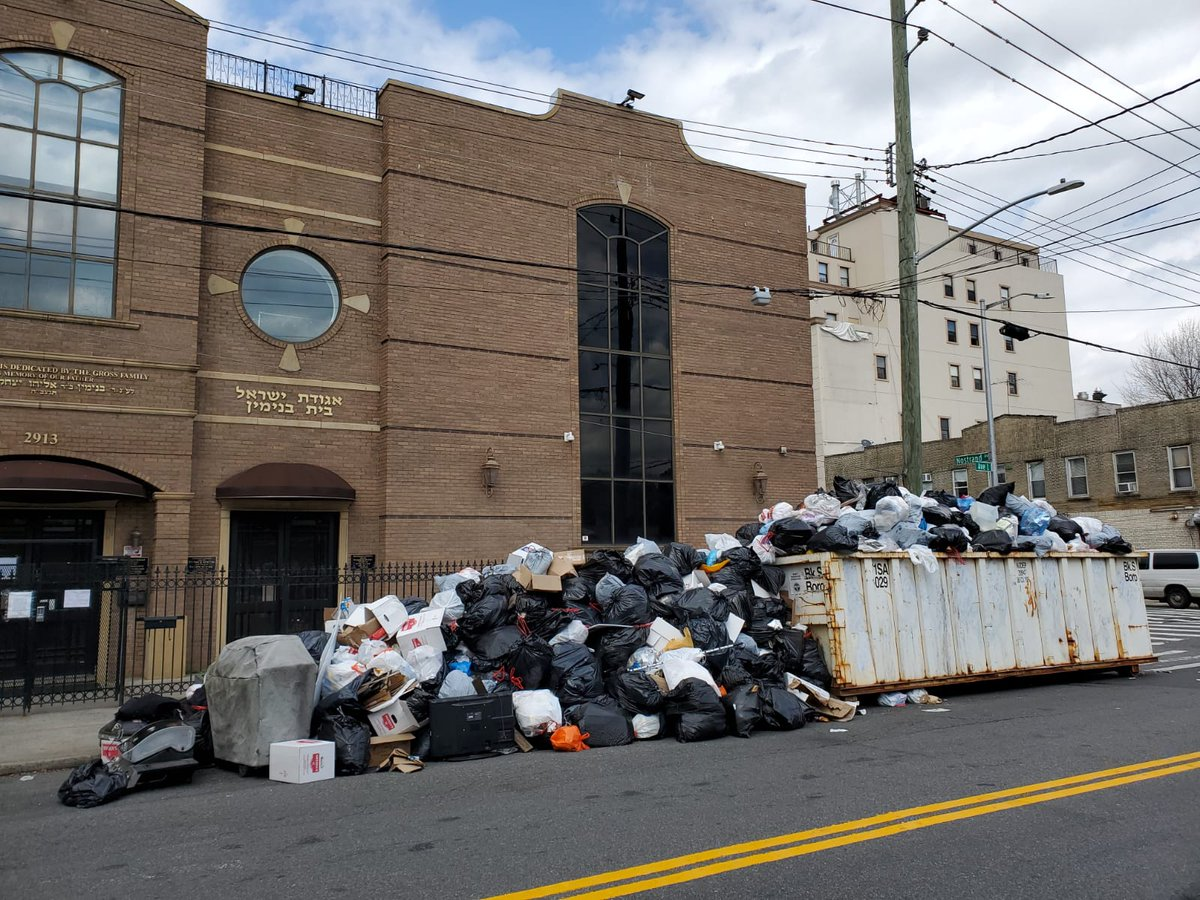building: (1, 87, 805, 683), (809, 202, 1077, 441), (847, 410, 1200, 525)
crosswalk: (1147, 611, 1200, 685)
sky: (398, 1, 1200, 189)
street: (1, 667, 1200, 900)
trash: (125, 483, 1106, 809)
